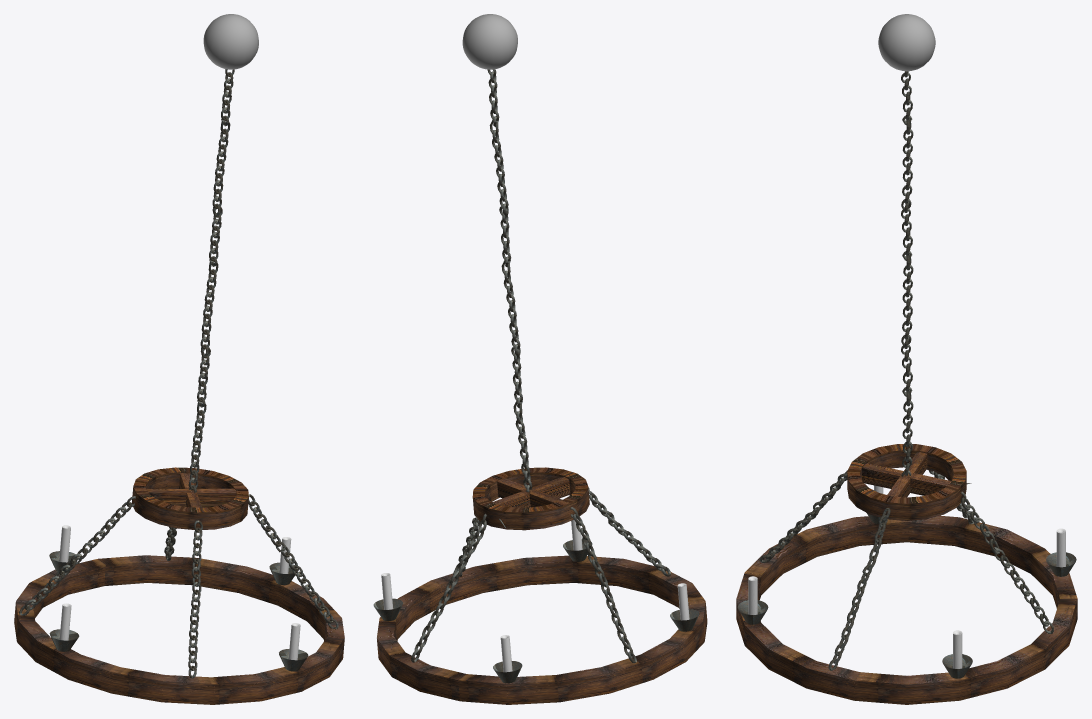
File: moveChand.fbx
3 renders of one model, left to right at view 1: azimuth 30°, elevation 25°; view 2: azimuth 150°, elevation 25°; view 3: azimuth 270°, elevation 25°, orthographic. The views are drawn at different scales.
Parts seen in each view (by area): view 1: group22_pasted__pasted__pasted__pasted__pasted__MASH4_ReproM, pSphere1; view 2: group22_pasted__pasted__pasted__pasted__pasted__MASH4_ReproM, pSphere1; view 3: group22_pasted__pasted__pasted__pasted__pasted__MASH4_ReproM, pSphere1.
Part boxes in pixels (bbox=[...]): group22_pasted__pasted__pasted__pasted__pasted__MASH4_ReproM: bbox=[14, 69, 344, 704]; pSphere1: bbox=[203, 14, 258, 69]; group22_pasted__pasted__pasted__pasted__pasted__MASH4_ReproM: bbox=[373, 69, 707, 704]; pSphere1: bbox=[462, 14, 517, 69]; group22_pasted__pasted__pasted__pasted__pasted__MASH4_ReproM: bbox=[736, 71, 1077, 704]; pSphere1: bbox=[878, 14, 935, 71].
Bounding box in the file's own units: 11.91 × 24.7 × 11.89.
15 materials, 14 textured.
